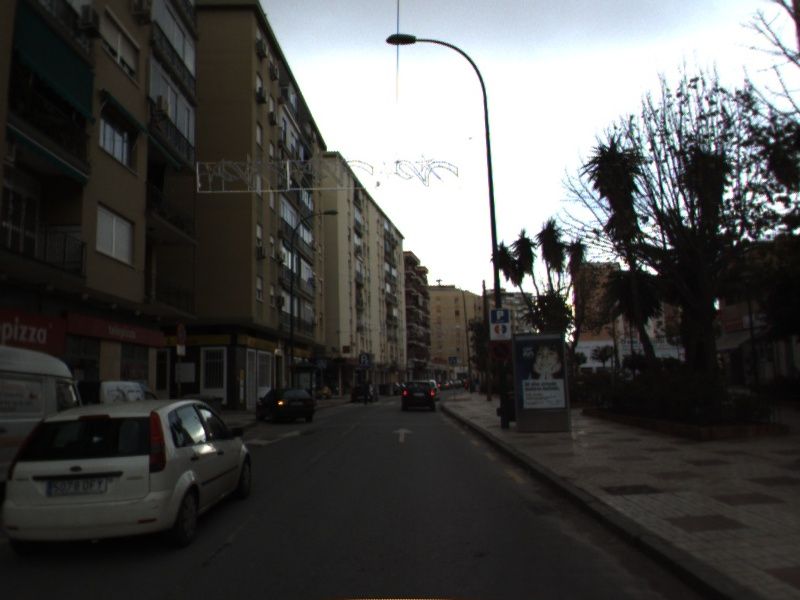STRAIGHT: (390, 426, 415, 444)
STRAIGHT_LEFT: (242, 428, 303, 448)
